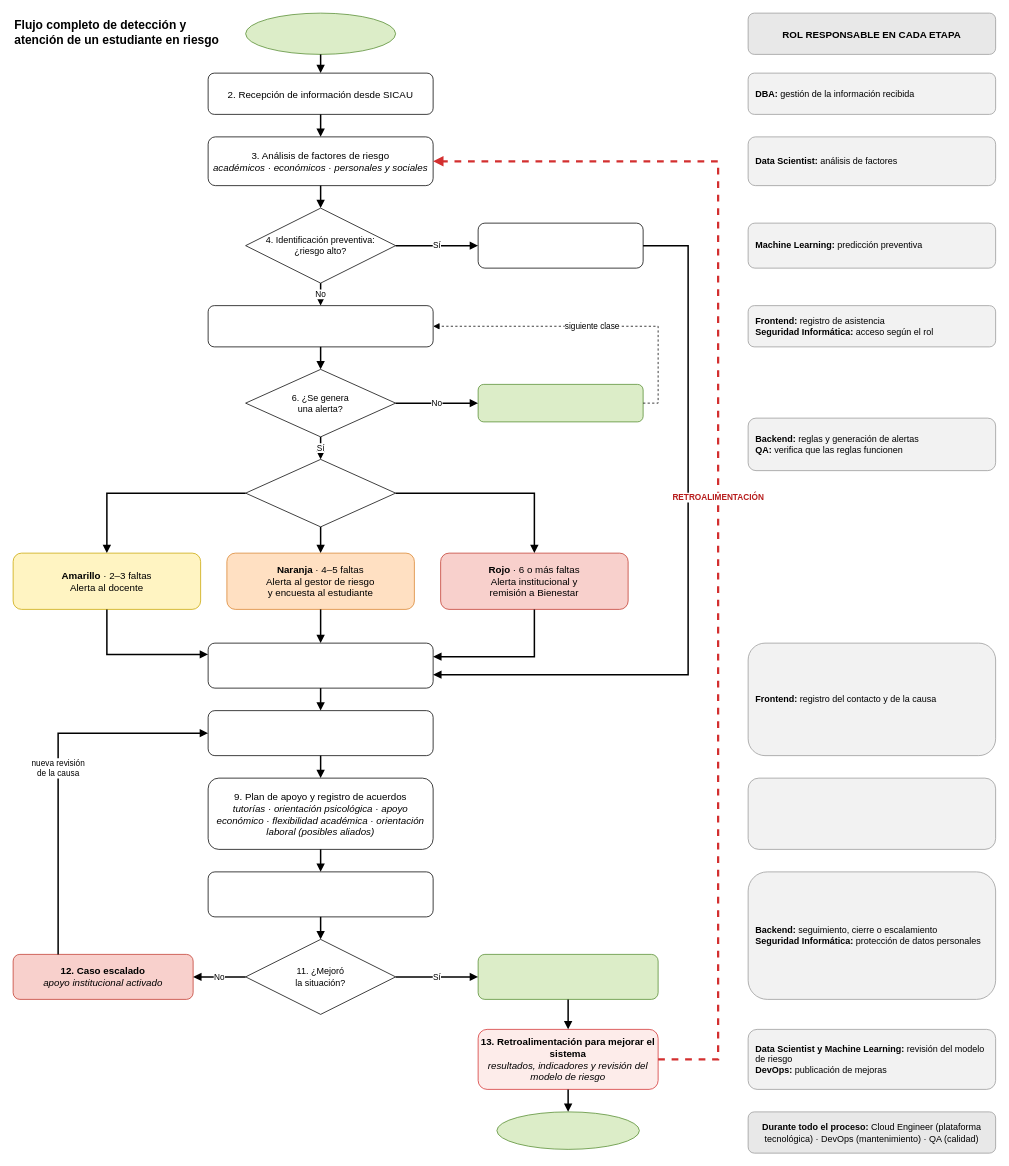
Some shapes in this 1009 by 1166 pixel diagram are drawn without their labels. Each missing label, with the centre of its shape:
"1. Inicio del periodo académico" goes at (x=320, y=33).
"10. Seguimiento monitoreo de asistencia y retroalimentación" goes at (x=320, y=894).
"12. Caso cerrado con mejora continuidad académica monitoreada" goes at (x=567, y=976).
"5. Registro de asistencia (docente)" goes at (x=320, y=326).
"7. Contacto con el estudiante" goes at (x=320, y=665).
"8. Identificación de la causa académica · económica · personal · social" goes at (x=320, y=733).
"Contacto preventivo (gestor de riesgo)" goes at (x=560, y=245).
"Fin del ciclo del caso" goes at (x=567, y=1130).
"Frontend y Backend: registro del plan y los acuerdos DBA: historial del caso" goes at (x=871, y=813).
"Nivel de alerta (rangos ilustrativos y parametrizables)" goes at (x=320, y=493).
"Sin alerta: continúa el monitoreo" goes at (x=560, y=403).
